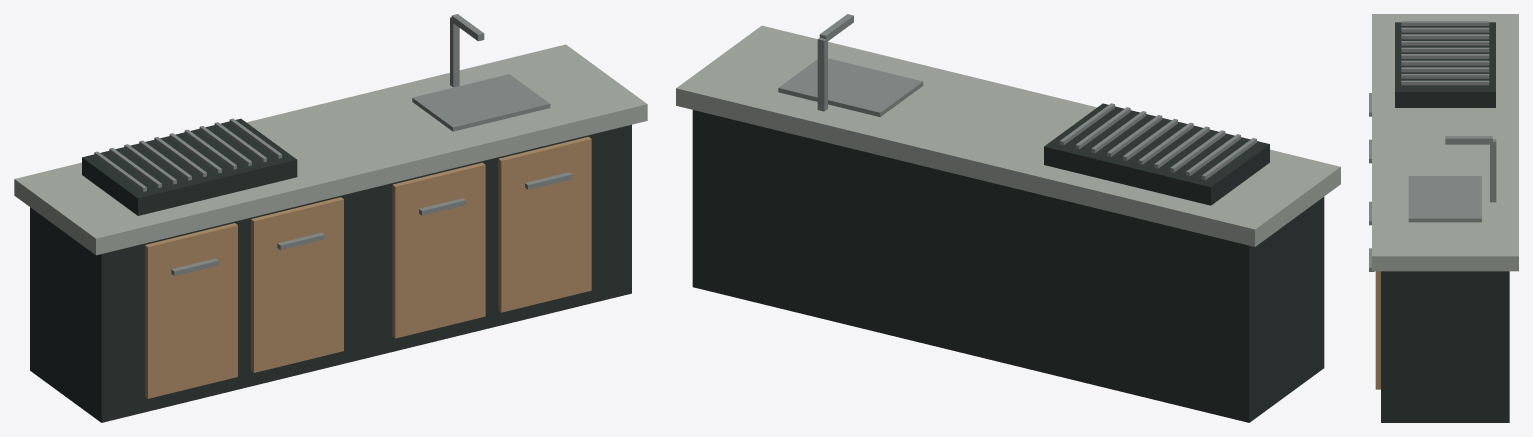
The model's file is kitchen.glb.
The picture shows the model from 3 angles, left to right: view 1: azimuth 30°, elevation 25°; view 2: azimuth 150°, elevation 25°; view 3: azimuth 270°, elevation 25°; orthographic projection. The views are drawn at different scales.
Visible parts, largest first — view 1: kitchen_Modrin, kitchen_Antracit, kitchen_Kamen, kitchen_Ocel; view 2: kitchen_Antracit, kitchen_Kamen, kitchen_Ocel; view 3: kitchen_Kamen, kitchen_Antracit, kitchen_Ocel, kitchen_Modrin.
Boxes of the visible parts, <box> form: kitchen_Modrin: <box>145,137,591,398</box>; kitchen_Antracit: <box>30,118,631,422</box>; kitchen_Kamen: <box>14,44,647,255</box>; kitchen_Ocel: <box>94,14,572,275</box>; kitchen_Antracit: <box>692,103,1324,422</box>; kitchen_Kamen: <box>676,25,1340,246</box>; kitchen_Ocel: <box>778,14,1256,180</box>; kitchen_Kamen: <box>1372,14,1518,271</box>; kitchen_Antracit: <box>1381,22,1509,422</box>; kitchen_Ocel: <box>1369,21,1496,271</box>; kitchen_Modrin: <box>1375,271,1380,389</box>.
Size of the model in its own units: 3.12 by 1.41 by 0.815.
